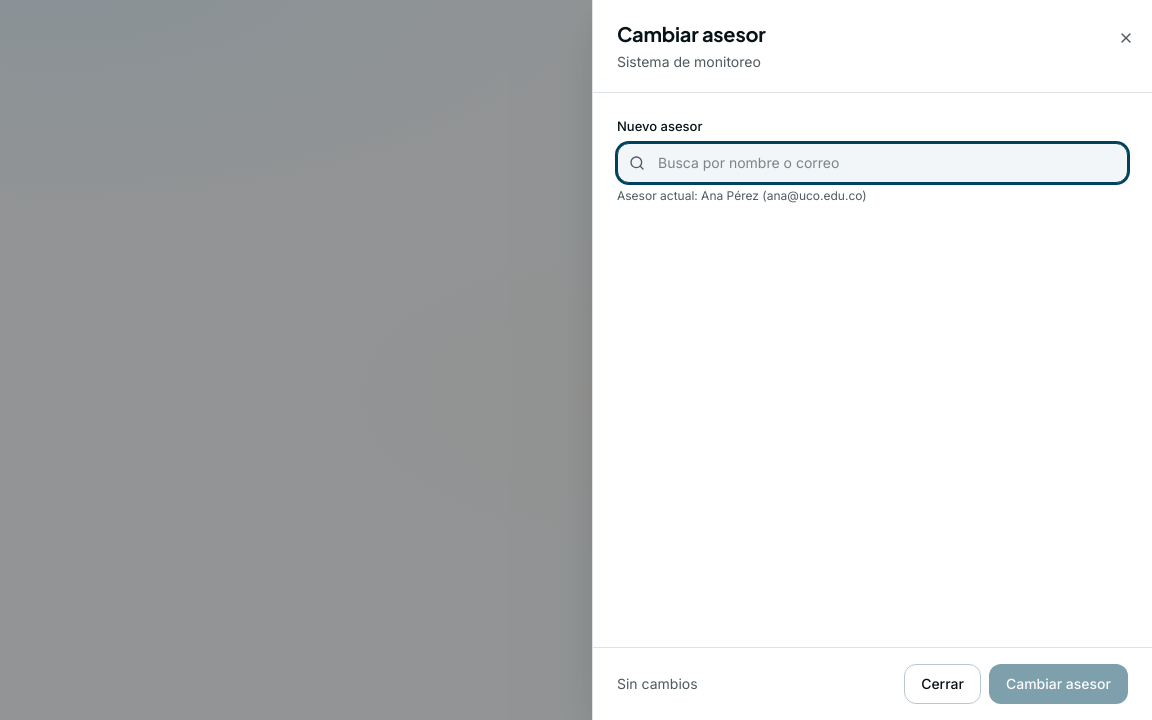
Test: CambiarAsesorPanel › cancelar la confirmación no envía nada y conserva la selección
This screenshot has width=1152, height=720.
Click the dropdown labelled "Nuevo asesor". click: click(872, 162)
box: [617,142,1128,182]
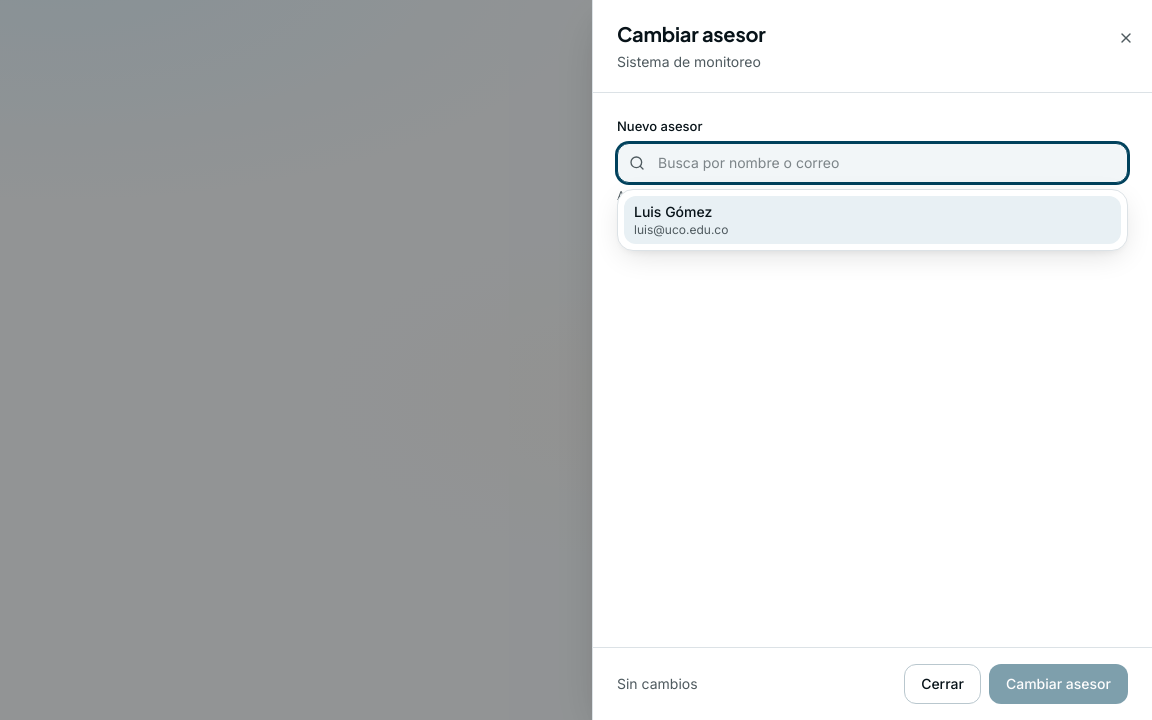
Click the option "Luis Gómez luis@uco.edu.co". click: click(673, 211)
box: [624,196,1121,244]
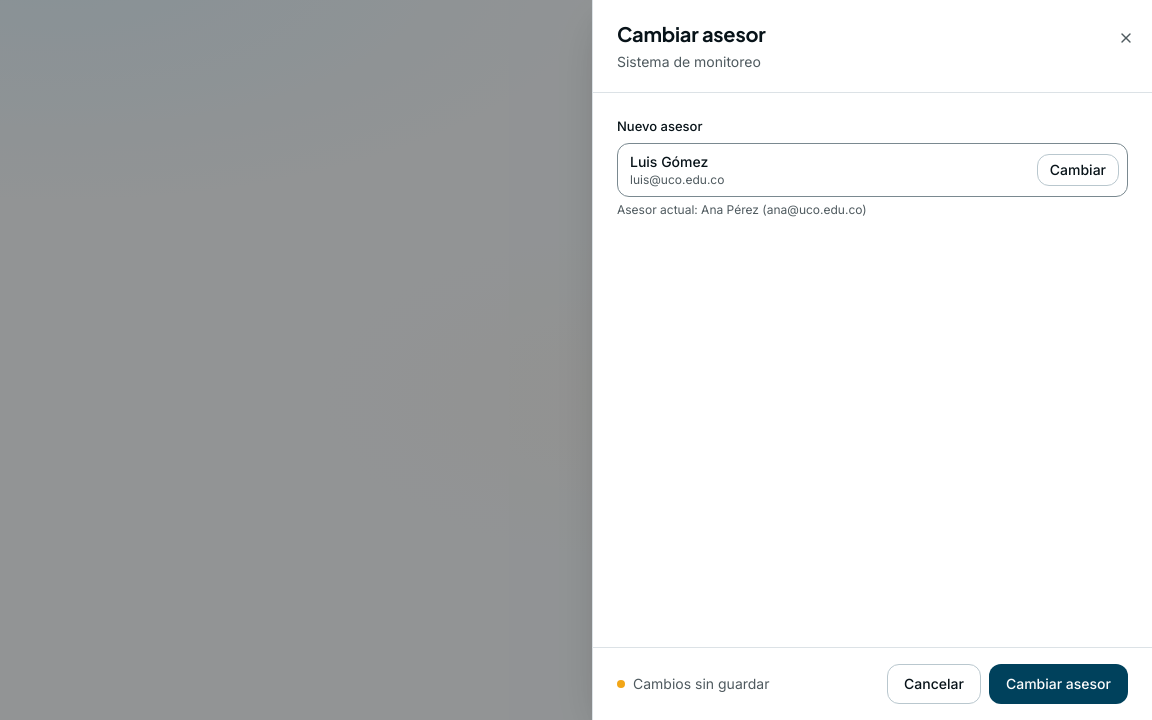
Click the button "Cambiar asesor". click: click(1058, 684)
box: [989,664,1128,704]
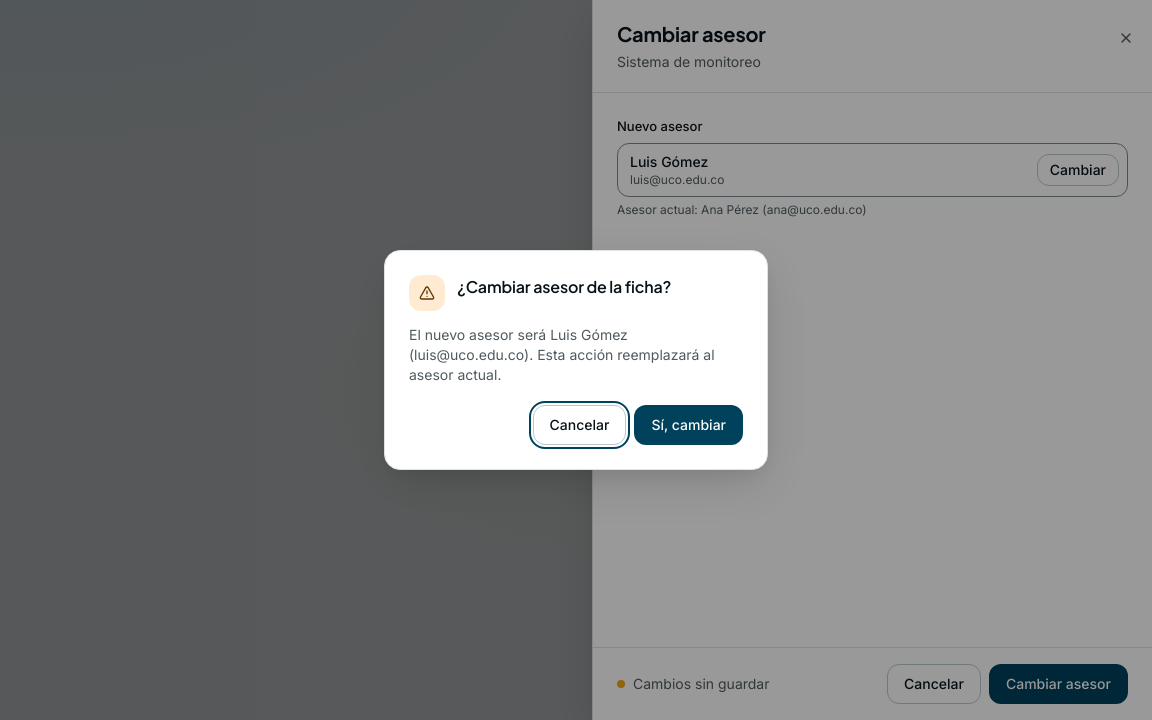
Click the button "Cancelar". click: click(580, 425)
box: [533,405,626,445]
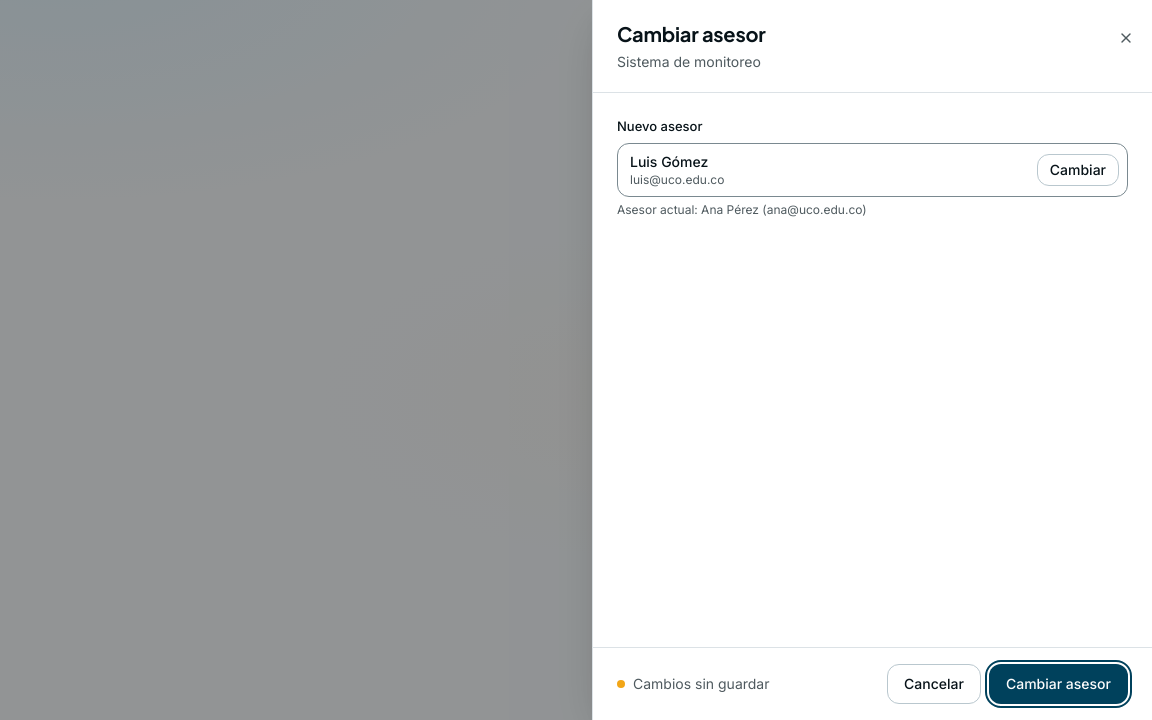
Expected: the text "Luis Gómez" is shown, [630,152,708,170]
Expected: the heading "¿Cambiar asesor de la ficha?" is gone
